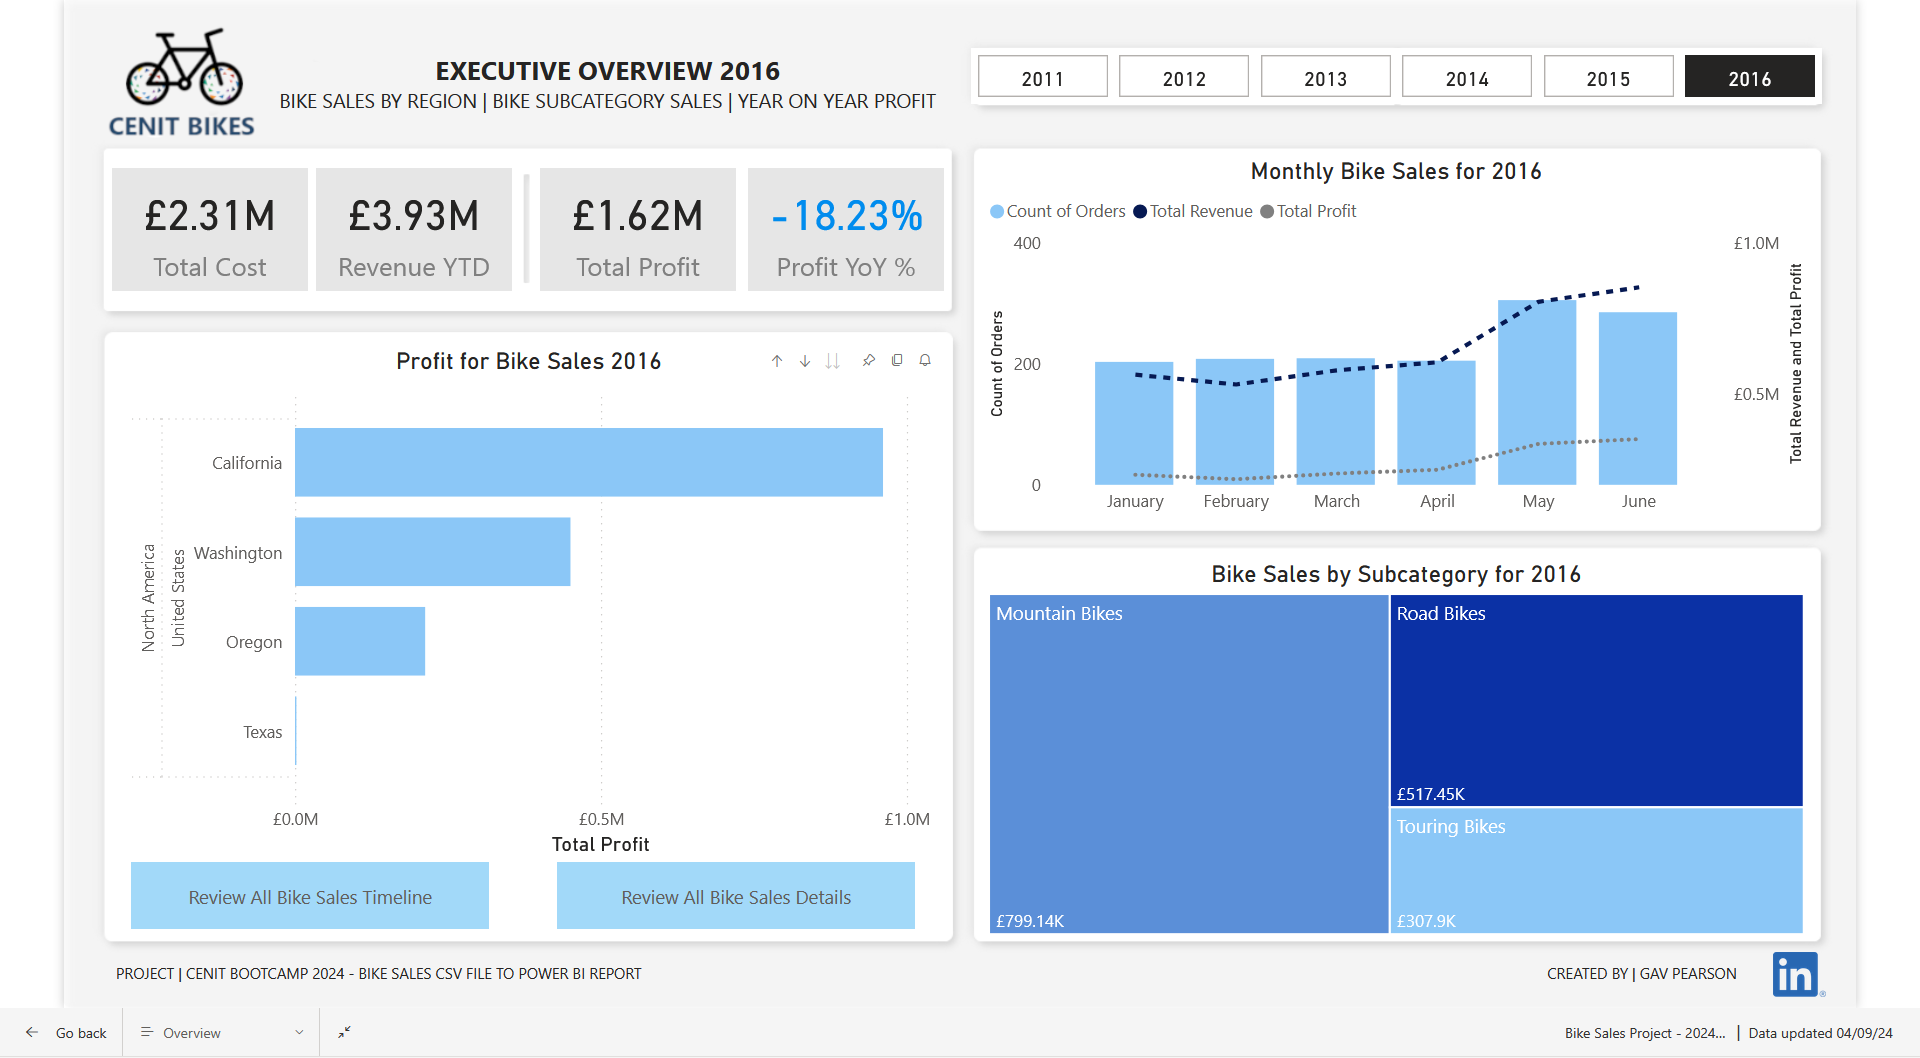

What the dashboard file says about the page in this screenshot:
{"tool":"powerbi","page":{"name":"Overview","canvas":[1280,720],"ordinal":0},"visuals":[{"type":"treemap","fields":{"Group":["Products.Product_Category Hierarchy.Product Category","Products.Product_Category Hierarchy.Sub Category","Products.Product_Category Hierarchy.Product","Products.Product_Category Hierarchy.Product","Products.Product - Size","Products.Product - Colour"],"Values":["DAX Calculations.Total Profit"]},"box":[656,400,592,272],"z":0},{"type":"advancedSlicerVisual","fields":{"Values":["Calendar.Date Hierarchy.Year"]},"box":[648,34,608,40],"z":1000},{"type":"barChart","fields":{"Category":["Geolocation.Country Hierarchy.Region","Geolocation.Country Hierarchy.Country","Geolocation.Country Hierarchy.State"],"Y":["DAX Calculations.Total Profit"]},"box":[40,248,584,368],"z":2000},{"type":"lineStackedColumnComboChart","fields":{"Category":["Calendar.Date Hierarchy.Month Name"],"Y":["DAX Calculations.Count of Orders"],"Y2":["DAX Calculations.Total Revenue","DAX Calculations.Total Profit"]},"box":[656,112,592,264],"z":3000},{"type":"card","fields":{"Values":["DAX Calculations.Profit YoY %"]},"box":[488,120,140,88],"z":4000,"group":"g1"},{"type":"textbox","box":[144,32,488,64],"z":4000},{"type":"card","fields":{"Values":["DAX Calculations.Total Cost"]},"box":[34,120,140,88],"z":5000,"group":"g1"},{"type":"textbox","box":[1040,680,160,32],"z":5000},{"type":"card","fields":{"Values":["DAX Calculations.Revenue YTD"]},"box":[180,120,140,88],"z":6000,"group":"g1"},{"type":"image","box":[1216,672,48,48],"z":6000},{"type":"card","fields":{"Values":["DAX Calculations.Total Profit"]},"box":[340,120,140,88],"z":7000,"group":"g1"},{"type":"actionButton","box":[352,616,256,48],"z":7000},{"type":"actionButton","box":[48,616,256,48],"z":8000},{"type":"textbox","box":[32,680,560,32],"z":9000},{"type":"group","id":"g1","title":"Group 1","box":[34,120,594,88],"z":10000}]}

Visuals, with their boxes on the page's 1280x720 design canvas (x1, y1, x2, y2). These are canvas units, not pixel positions in the 1920x1058 screenshot, which may show the page scaled, cropped or inside an application window:
treemap - Products.Product_Category Hierarchy.Product Category x Products.Product_Category Hierarchy.Sub Category: box=[656, 400, 1248, 672]
advancedSlicerVisual - Calendar.Date Hierarchy.Year: box=[648, 34, 1256, 74]
barChart - Geolocation.Country Hierarchy.Region x Geolocation.Country Hierarchy.Country: box=[40, 248, 624, 616]
lineStackedColumnComboChart - Calendar.Date Hierarchy.Month Name x DAX Calculations.Count of Orders: box=[656, 112, 1248, 376]
card - DAX Calculations.Profit YoY %: box=[488, 120, 628, 208]
textbox: box=[144, 32, 632, 96]
card - DAX Calculations.Total Cost: box=[34, 120, 174, 208]
textbox: box=[1040, 680, 1200, 712]
card - DAX Calculations.Revenue YTD: box=[180, 120, 320, 208]
image: box=[1216, 672, 1264, 720]
card - DAX Calculations.Total Profit: box=[340, 120, 480, 208]
actionButton: box=[352, 616, 608, 664]
actionButton: box=[48, 616, 304, 664]
textbox: box=[32, 680, 592, 712]
"Group 1" group: box=[34, 120, 628, 208]
